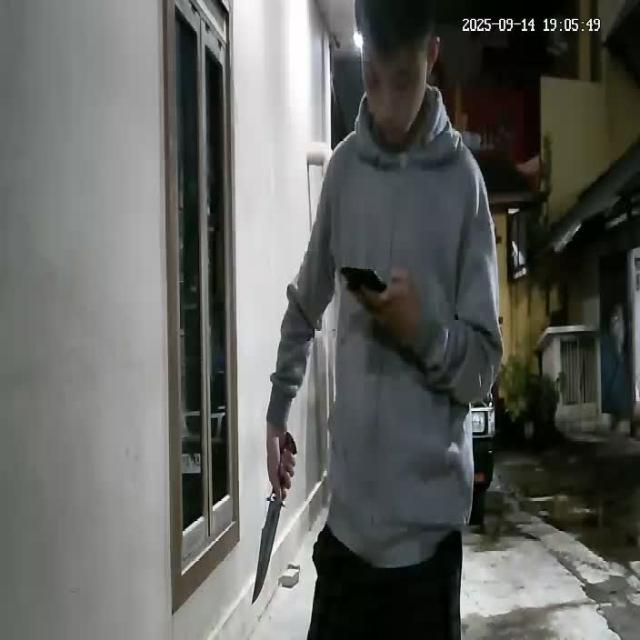senjata_tajam: (249, 489, 286, 607)
